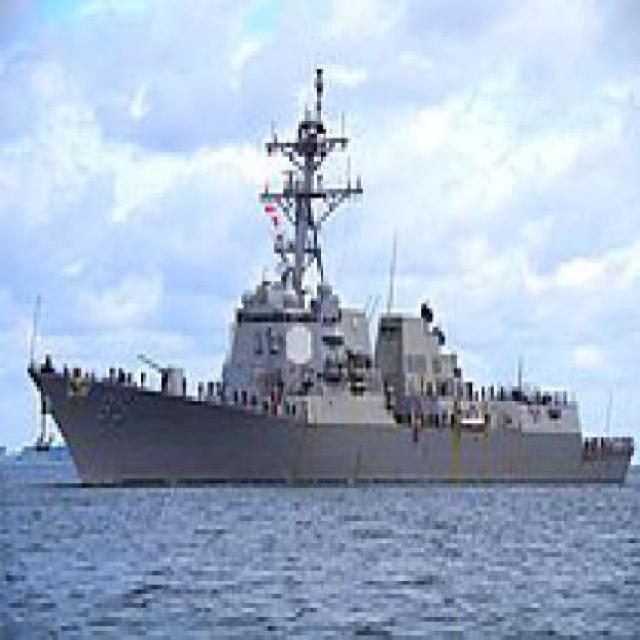warship2: (32, 60, 632, 517)
